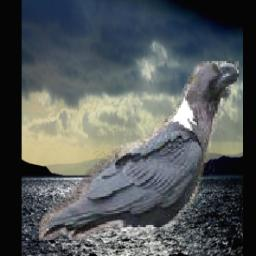Crow: (40, 62, 240, 241)
